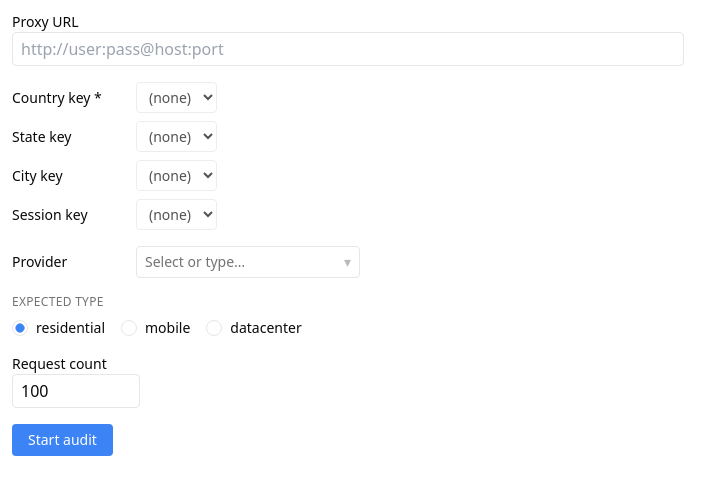
Test case: AuditSetupForm — provider input › prefills provider from the URL credtag's provider-X token
This screenshot has width=701, height=493.
In the field labelled "Proxy URL": (348, 49) top-left (12, 32), bottom-right (684, 66), type "http://user-provider-acme-country-RO:p@some.host:1"
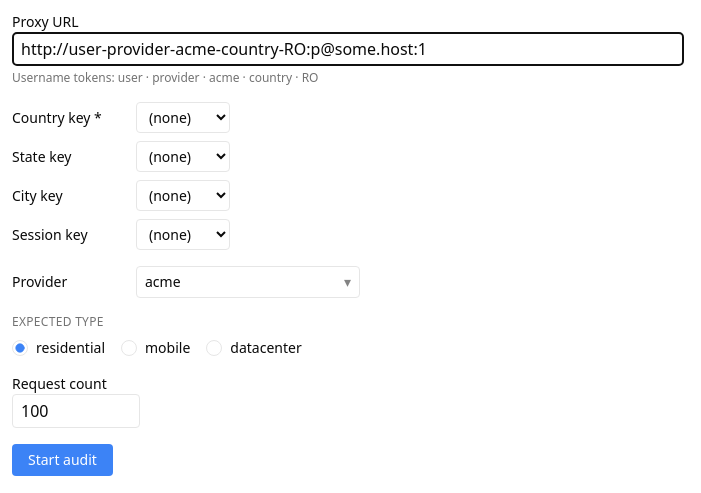
Expected: the dropdown named "provider" shows "acme", top-left (136, 266), bottom-right (360, 298)
